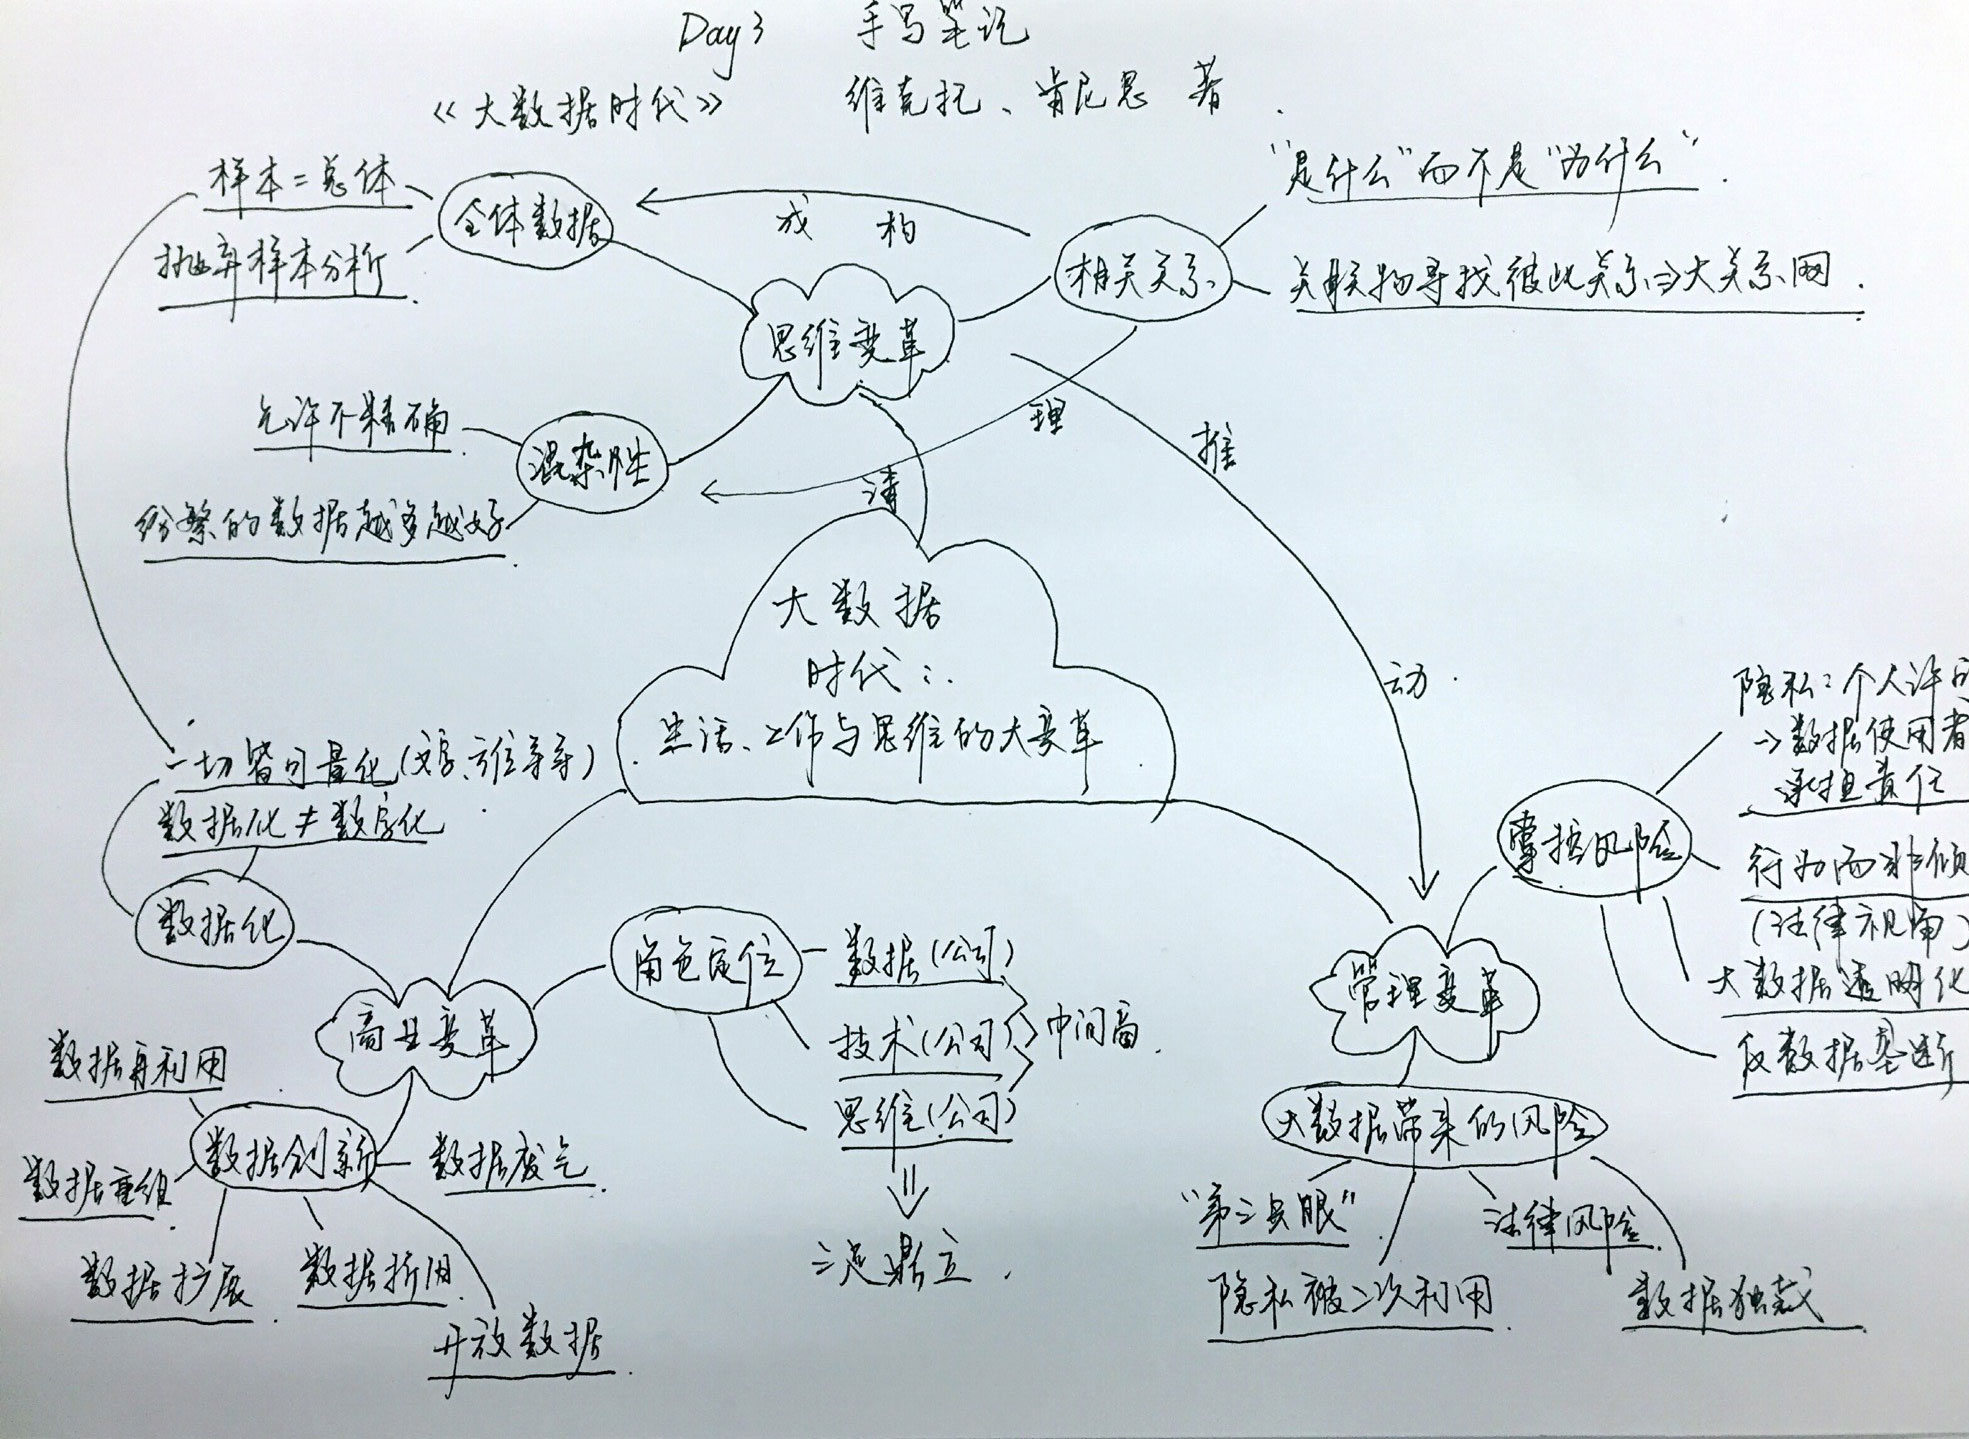circle: (1255, 1077, 1611, 1174), (1258, 1078, 1614, 1171), (1494, 772, 1701, 899), (1494, 774, 1701, 901), (605, 901, 809, 1015), (605, 901, 806, 1015), (1053, 211, 1237, 323), (183, 1098, 387, 1197), (434, 165, 615, 274), (437, 165, 615, 274), (130, 866, 303, 971), (512, 404, 673, 515), (514, 408, 673, 517), (133, 869, 297, 971)
line: (1004, 344, 1442, 904), (697, 326, 1150, 511), (55, 187, 197, 762), (442, 786, 634, 996), (1160, 789, 1399, 925), (634, 180, 1032, 248), (1594, 898, 1724, 1069), (359, 1171, 508, 1317), (1284, 292, 1857, 320), (596, 228, 757, 317), (706, 1011, 815, 1141), (1588, 1147, 1692, 1275), (1302, 180, 1727, 211), (663, 372, 793, 471), (136, 541, 514, 575), (858, 384, 933, 547), (1202, 1320, 1500, 1350), (93, 775, 154, 922), (290, 931, 405, 1008), (151, 284, 414, 317), (157, 830, 430, 859), (1619, 1314, 1873, 1344), (1743, 882, 1967, 914), (246, 434, 462, 466), (61, 1304, 255, 1338), (1439, 859, 1507, 954), (1649, 723, 1727, 801), (1721, 999, 1969, 1022), (208, 193, 393, 223), (1727, 1081, 1967, 1104), (830, 1060, 1004, 1090), (836, 1129, 1018, 1158), (957, 271, 1052, 326), (1734, 798, 1969, 820), (1376, 1165, 1422, 1271), (284, 1294, 448, 1323), (167, 778, 397, 798), (530, 959, 611, 1015), (425, 1366, 624, 1389), (370, 1069, 419, 1159), (838, 971, 1012, 996), (44, 1084, 237, 1106), (12, 1205, 161, 1233), (1657, 887, 1695, 989), (1186, 1231, 1354, 1252), (1500, 1236, 1663, 1255), (772, 992, 822, 1057), (1215, 196, 1270, 254), (442, 1178, 602, 1197), (462, 416, 530, 456), (202, 1184, 232, 1262), (1391, 1023, 1425, 1093), (1460, 1161, 1509, 1208), (393, 171, 448, 206), (1302, 1152, 1354, 1187), (294, 1190, 333, 1233), (501, 495, 543, 535), (365, 1153, 439, 1171), (397, 225, 437, 258), (793, 931, 838, 960), (1688, 844, 1724, 875), (174, 1084, 208, 1113)
